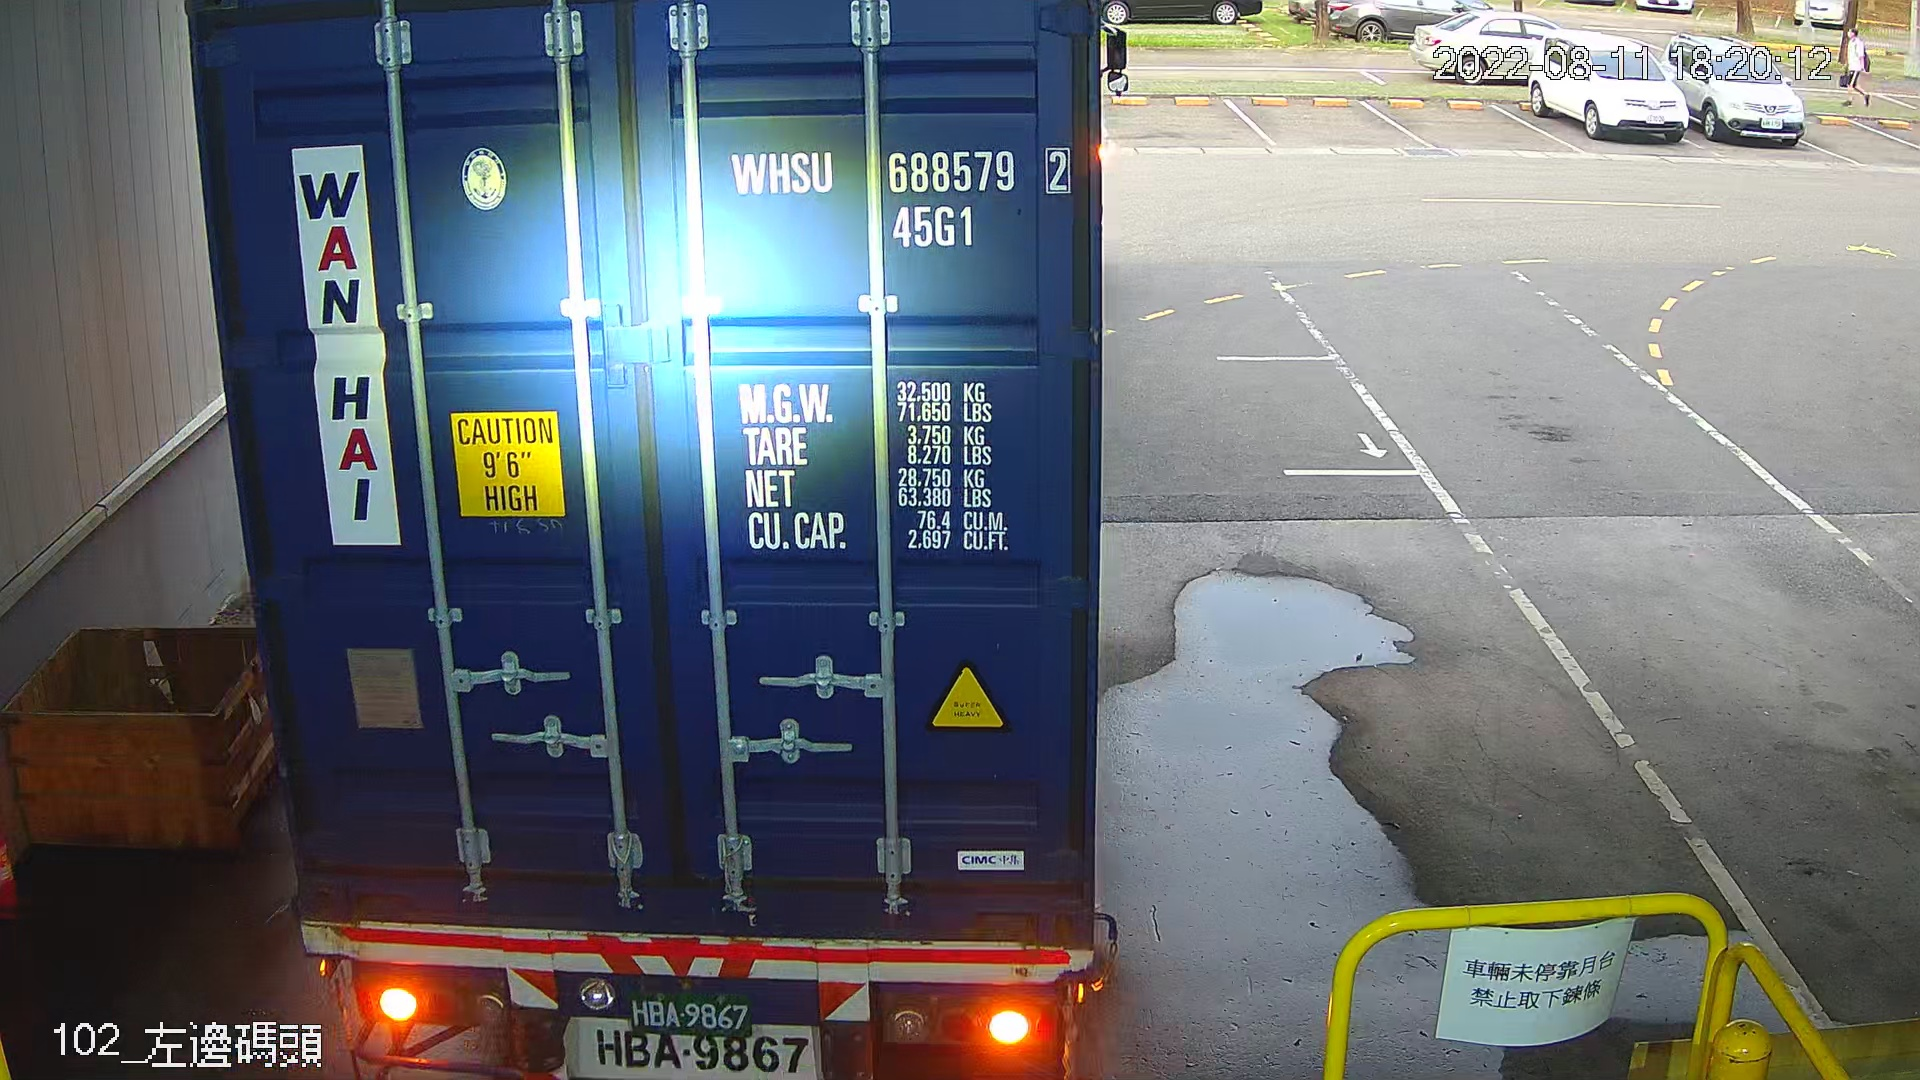container: (719, 132, 1081, 258)
